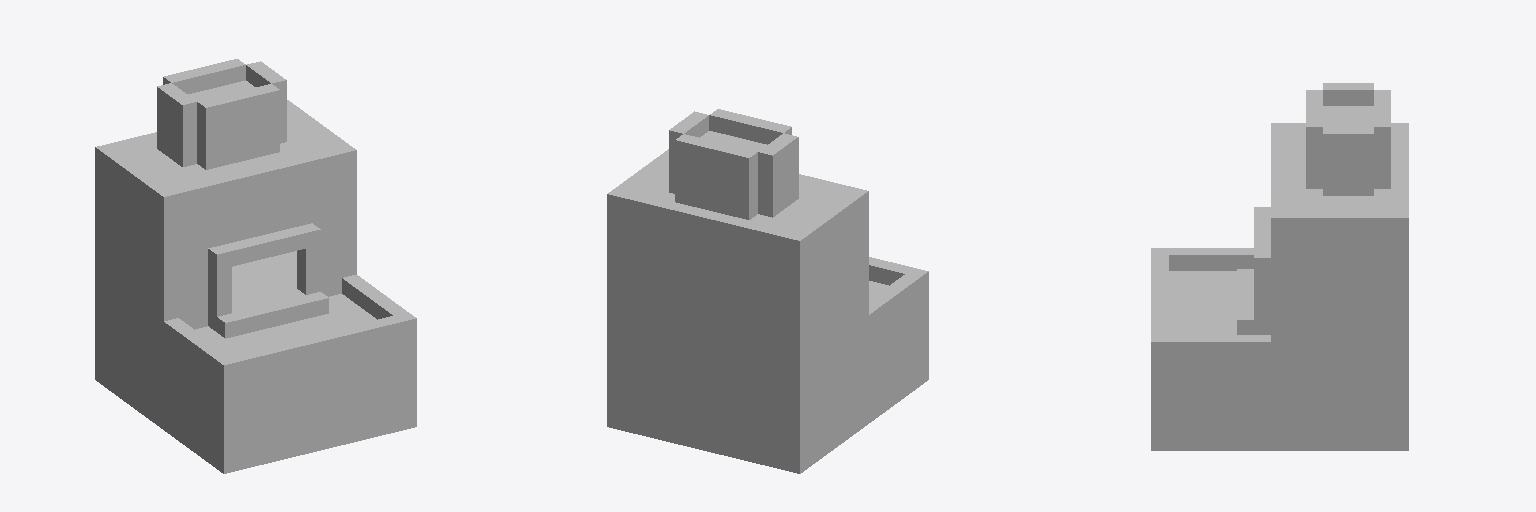
The model's file is Forge.obj.
3 renders of one model, left to right at view 1: azimuth 30°, elevation 25°; view 2: azimuth 150°, elevation 25°; view 3: azimuth 270°, elevation 25°, orthographic.
Visible parts, largest first — view 1: object 1; view 2: object 1; view 3: object 1.
Boxes of the visible parts, <box> form: object 1: <box>95,59,416,473</box>; object 1: <box>607,109,928,473</box>; object 1: <box>1151,83,1408,450</box>.
Size of the model in its own units: 1.3 by 1.9 by 1.5.